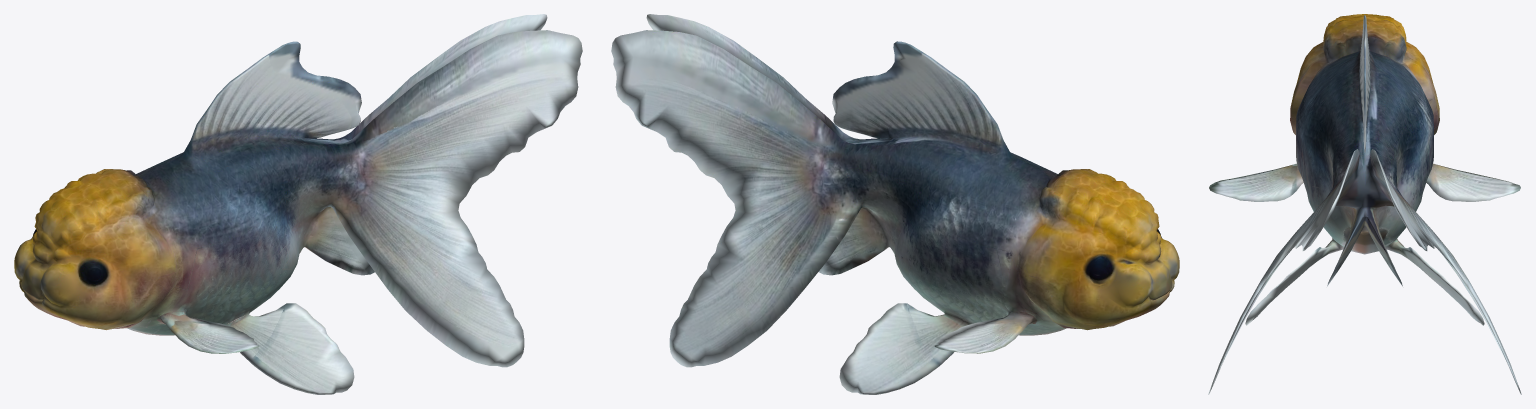
File: fish.glb
3 renders of one model, left to right at view 1: azimuth 30°, elevation 25°; view 2: azimuth 150°, elevation 25°; view 3: azimuth 270°, elevation 25°, orthographic.
Visible parts, largest first — view 1: fish; view 2: fish; view 3: fish.
Part boxes in pixels (x1,y1,x2,y2): fish: (14,14,582,394); fish: (611,14,1179,394); fish: (1208,14,1521,394).
Size of the model in its own units: 0.12 by 0.0655 by 0.06.
1 material, 1 textured.
